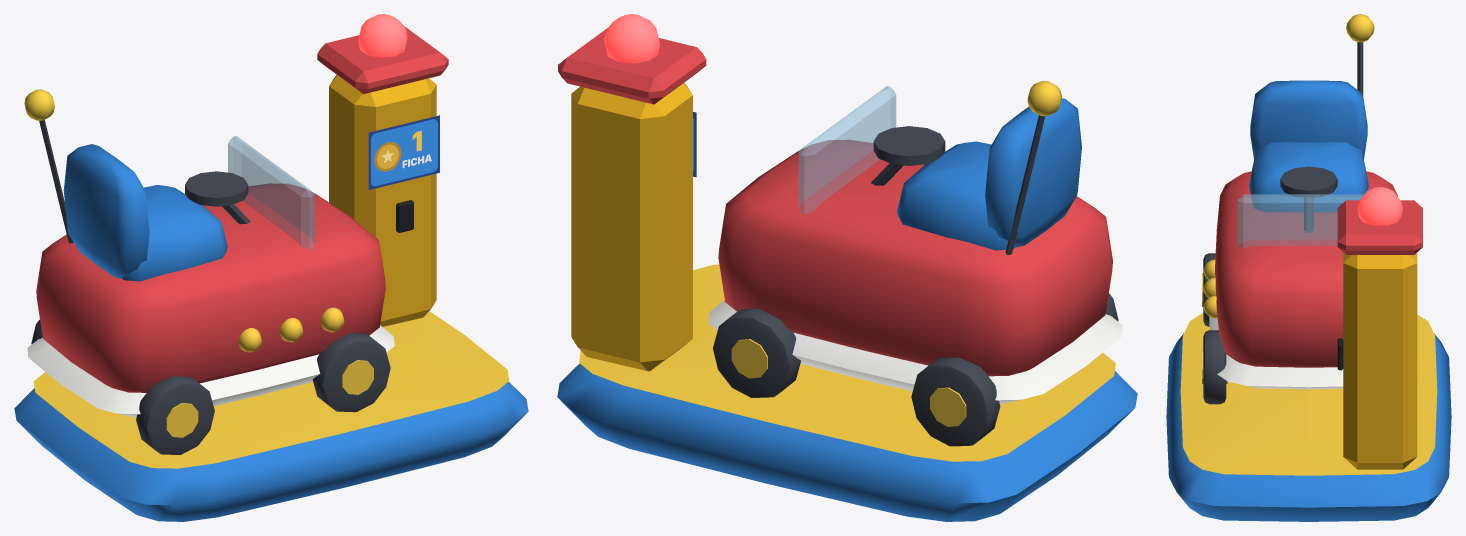
The model's file is brinquedo_moeda_carrinho.glb.
The picture shows the model from 3 angles, left to right: view 1: azimuth 30°, elevation 25°; view 2: azimuth 150°, elevation 25°; view 3: azimuth 270°, elevation 25°; orthographic projection. The views are drawn at different scales.
Visible parts, largest first — view 1: carrinho, brinquedo_moeda_carrinho, lampada_ficha; view 2: carrinho, brinquedo_moeda_carrinho, lampada_ficha; view 3: brinquedo_moeda_carrinho, carrinho, lampada_ficha.
Boxes of the visible parts, <box> form: carrinho: <box>24,89,394,454</box>; brinquedo_moeda_carrinho: <box>14,26,528,521</box>; lampada_ficha: <box>358,14,407,57</box>; carrinho: <box>708,80,1122,446</box>; brinquedo_moeda_carrinho: <box>557,28,1137,521</box>; lampada_ficha: <box>604,14,659,63</box>; brinquedo_moeda_carrinho: <box>1166,200,1451,521</box>; carrinho: <box>1202,14,1397,404</box>; lampada_ficha: <box>1357,187,1402,225</box>.
Bounding box in the file's own units: 1.54 × 1.31 × 1.
Materials: 5 (2 with a texture image).
